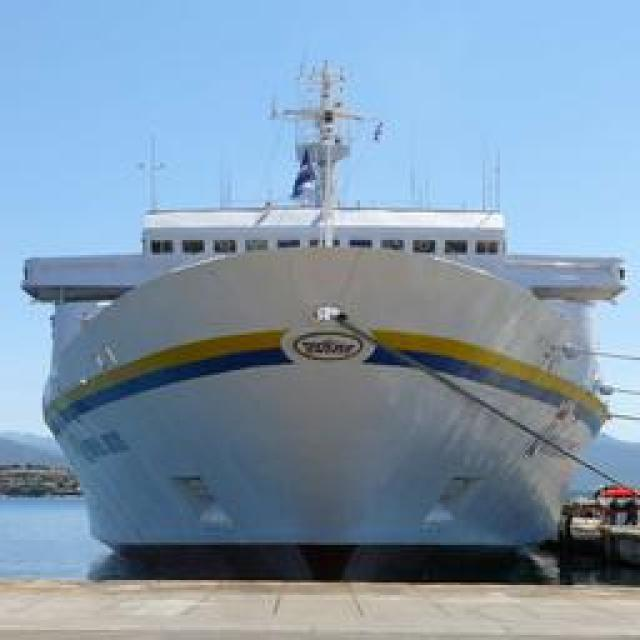ship2: (19, 64, 627, 586)
